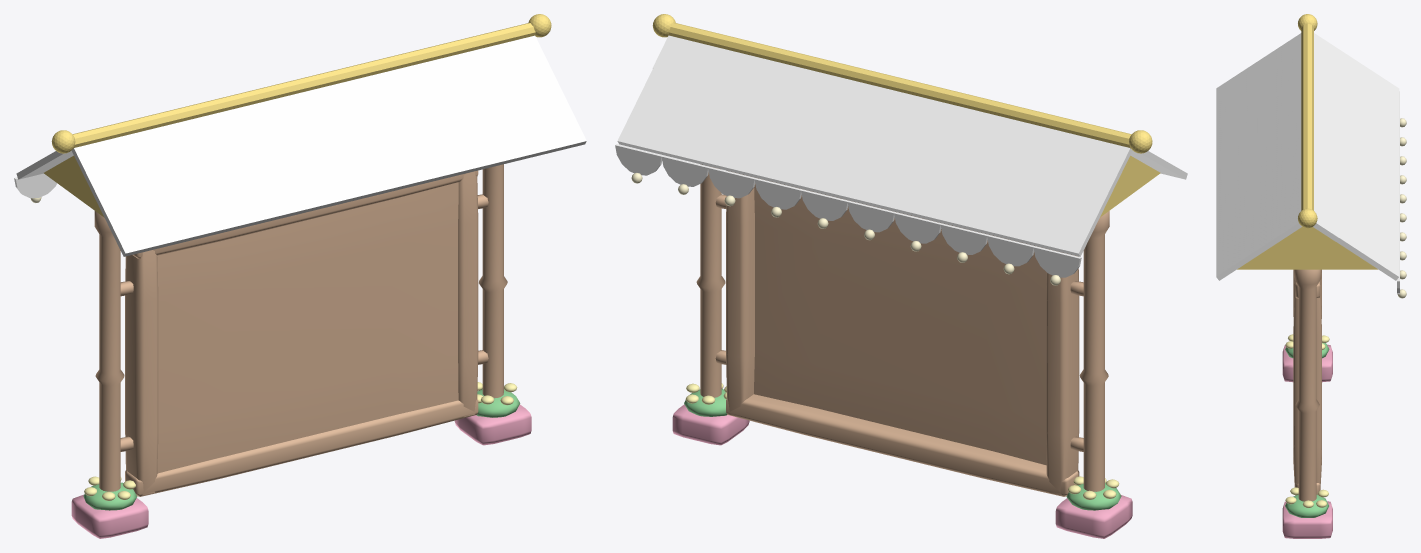
File: LobbyQuestKiosk.glb
The picture shows the model from 3 angles, left to right: view 1: azimuth 30°, elevation 25°; view 2: azimuth 150°, elevation 25°; view 3: azimuth 270°, elevation 25°; orthographic projection. The views are drawn at different scales.
Parts seen in each view (by area): view 1: Wood, Roof, RoofB, Trim, Planter, Leaves, Flowers; view 2: Wood, Roof, RoofB, Trim, Planter, Leaves, Bulbs, Flowers; view 3: Roof, RoofB, Wood, Trim, Planter, Leaves, Bulbs, Flowers.
Part boxes in pixels (x1,y1,x2,y2): Wood: (94,164,507,496); Roof: (14,35,586,256); RoofB: (34,68,568,219); Trim: (44,14,551,217); Planter: (71,404,531,538); Leaves: (83,389,520,510); Flowers: (84,382,517,500); Wood: (696,164,1109,496); Roof: (615,35,1187,277); RoofB: (635,68,1169,219); Trim: (652,14,1160,217); Planter: (672,404,1132,538); Leaves: (684,389,1121,510); Bulbs: (631,172,1060,285); Flowers: (685,383,1119,499); Roof: (1216,33,1399,294); RoofB: (1246,49,1369,261); Wood: (1293,269,1321,501); Trim: (1237,14,1377,269); Planter: (1282,344,1332,538); Leaves: (1285,343,1329,517); Bulbs: (1397,118,1406,298); Flowers: (1285,334,1329,508).
Size of the model in its own units: 26.7 by 20.85 by 10.6.
